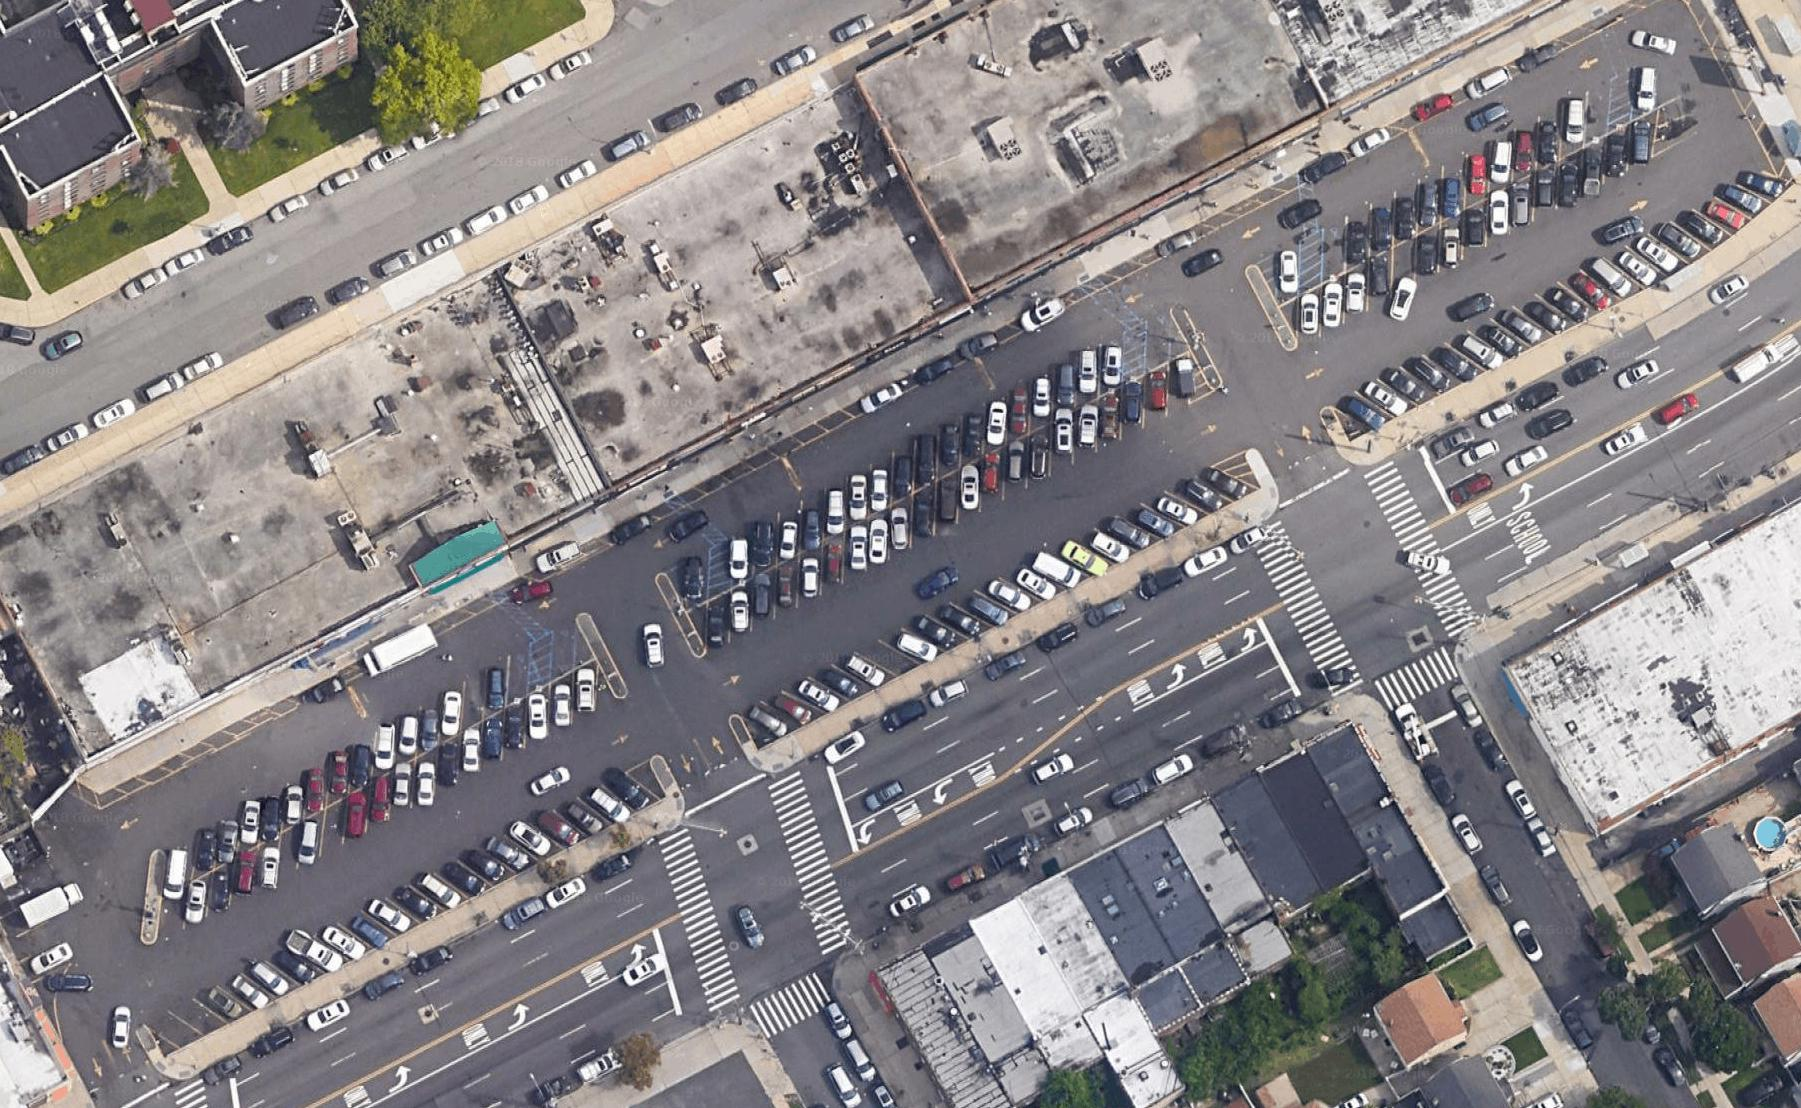parkingspot: (704, 349, 1193, 654), (145, 766, 665, 1051), (735, 462, 1265, 741), (154, 655, 599, 950), (1322, 169, 1797, 432), (728, 327, 1127, 593), (162, 637, 535, 903), (1293, 103, 1662, 350), (1319, 73, 1613, 287), (1, 892, 77, 987), (678, 543, 711, 614), (1144, 306, 1175, 378), (1272, 235, 1302, 309), (548, 616, 578, 686), (1630, 62, 1659, 124)
